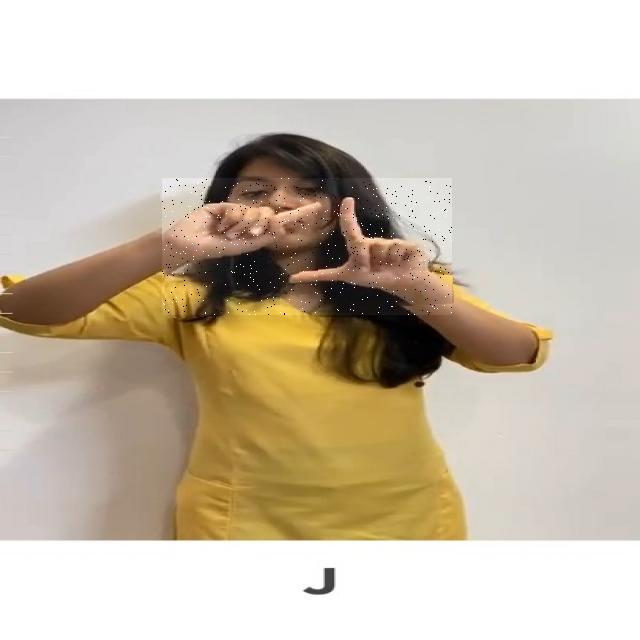J: (162, 178, 452, 315)
